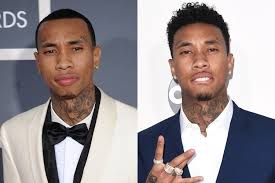black_male: (33, 24, 99, 94)
